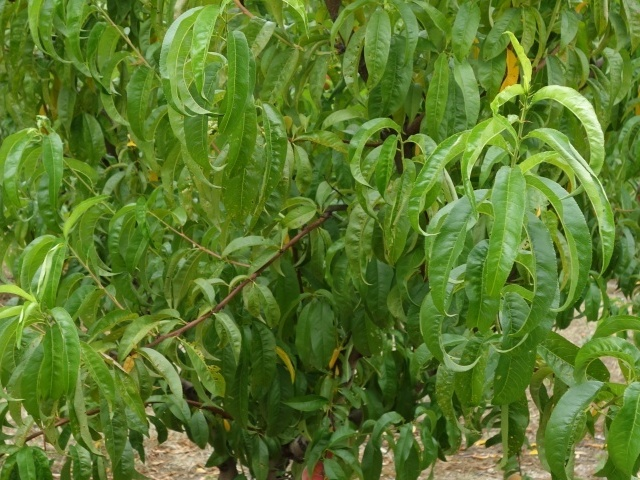peach: (298, 457, 341, 479)
